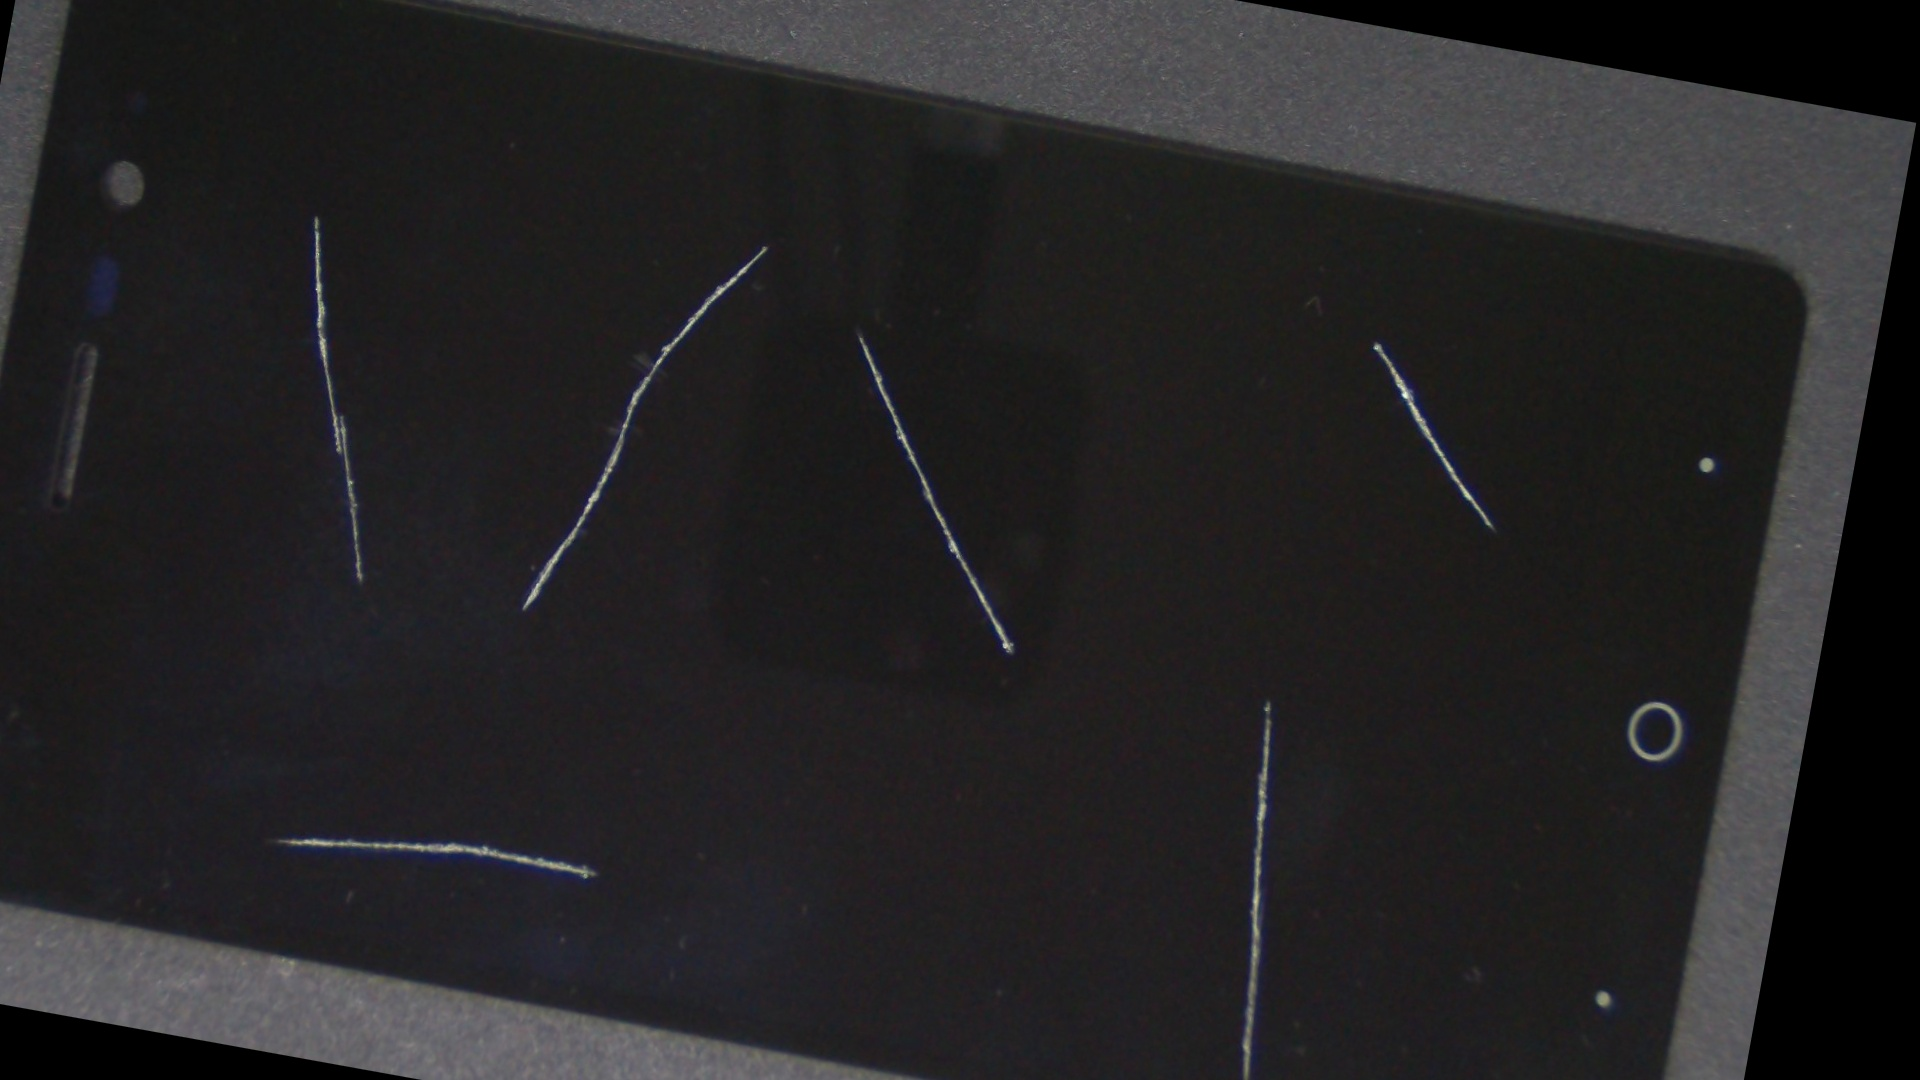oil: (542, 243, 1855, 1080), (661, 63, 1888, 580), (142, 315, 873, 1080), (386, 58, 1331, 604), (352, 16, 1175, 473), (119, 0, 512, 427)
